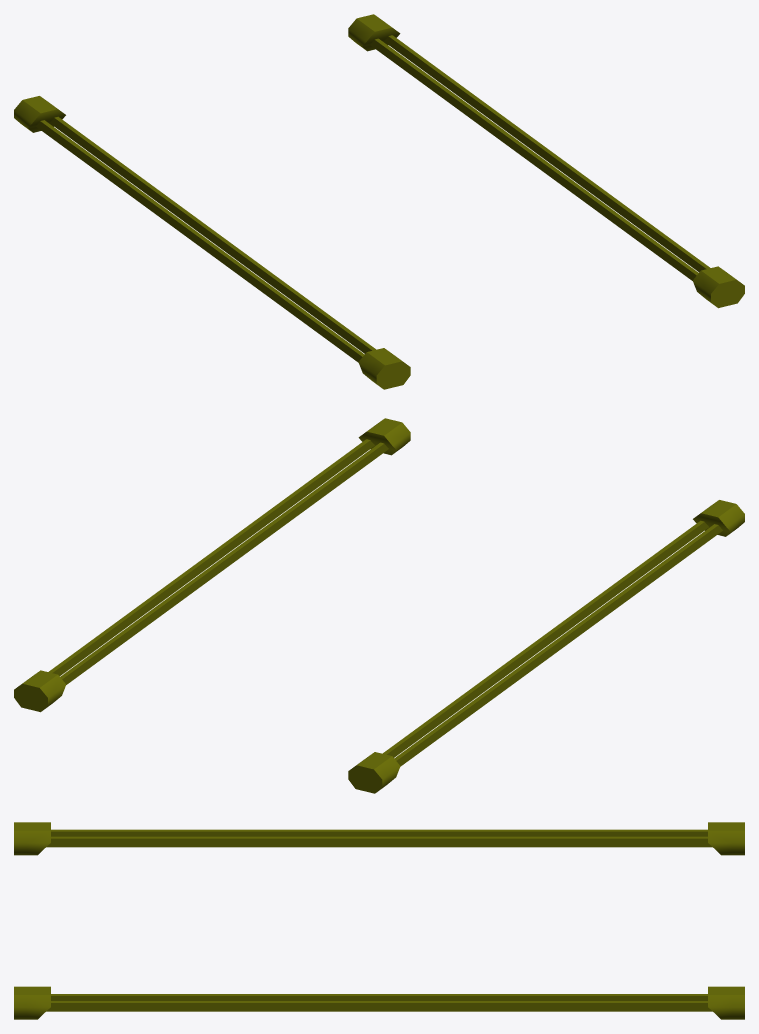
Rendered from SM_Crane-TrackRails_E.fbx.
The picture shows the model from 3 angles, top to bottom: view 1: azimuth 30°, elevation 25°; view 2: azimuth 150°, elevation 25°; view 3: azimuth 270°, elevation 25°; orthographic projection.
Parts seen in each view (by area): view 1: SM_Crane-TrackRails_E; view 2: SM_Crane-TrackRails_E; view 3: SM_Crane-TrackRails_E.
Boxes of the visible parts, x1,y1,x2,y2 form: SM_Crane-TrackRails_E: (14, 14, 744, 389); SM_Crane-TrackRails_E: (14, 418, 744, 793); SM_Crane-TrackRails_E: (14, 822, 744, 1019).
Bounding box in the file's own units: 1759 × 3001 × 110.
